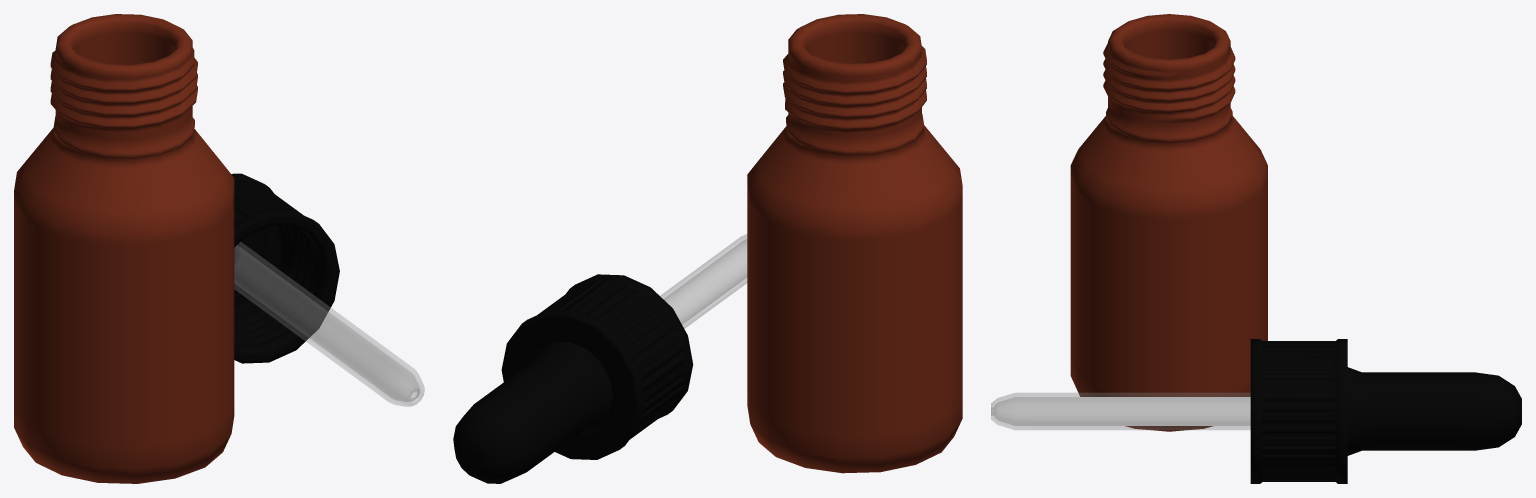
Rendered from gongchang.obj.
3 renders of one model, left to right at view 1: azimuth 30°, elevation 25°; view 2: azimuth 150°, elevation 25°; view 3: azimuth 270°, elevation 25°, orthographic. The views are drawn at different scales.
Parts seen in each view (by area): view 1: bottle_Plane, cap1_Plane.001, dropper_Plane.006, cap2_Plane.003; view 2: bottle_Plane, cap1_Plane.001, cap2_Plane.003, dropper_Plane.006; view 3: bottle_Plane, cap1_Plane.001, cap2_Plane.003, dropper_Plane.006.
Boxes of the visible parts, x1,y1,x2,y2 form: bottle_Plane: (14, 14, 234, 483); cap1_Plane.001: (231, 173, 339, 363); dropper_Plane.006: (234, 242, 424, 406); cap2_Plane.003: (234, 229, 265, 293); bottle_Plane: (747, 14, 962, 473); cap1_Plane.001: (501, 274, 693, 459); cap2_Plane.003: (453, 341, 612, 483); dropper_Plane.006: (660, 234, 747, 328); bottle_Plane: (1070, 14, 1267, 431); cap1_Plane.001: (1250, 339, 1347, 483); cap2_Plane.003: (1347, 367, 1521, 455); dropper_Plane.006: (991, 393, 1250, 429).
Bounding box in the file's own units: 0.0654 × 0.0702 × 0.0947.
